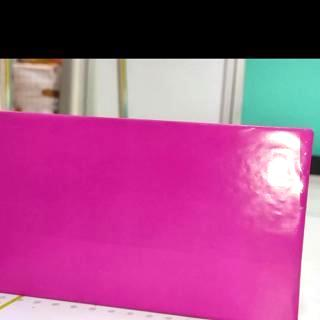xparking: (0, 112, 314, 318)
